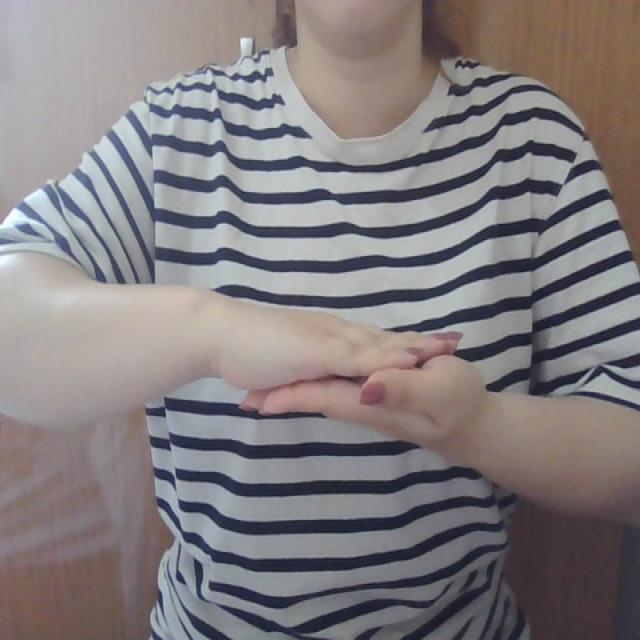Arkadas: (150, 282, 543, 479)
